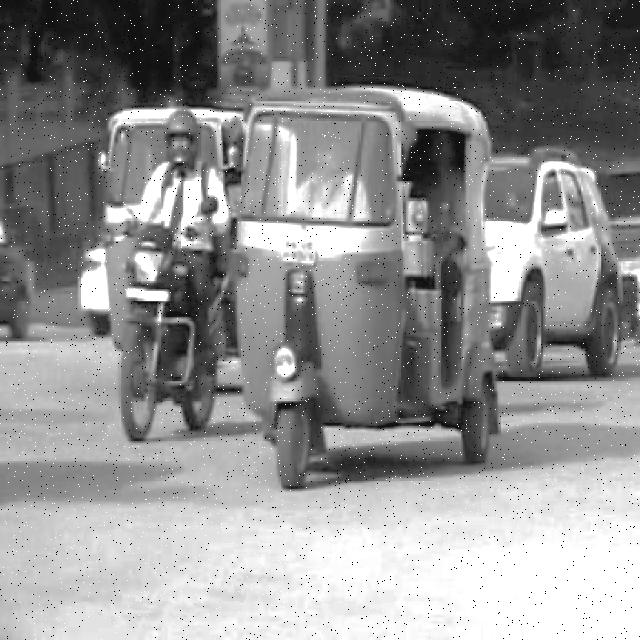Auto-Rickshaw: (235, 88, 503, 486)
